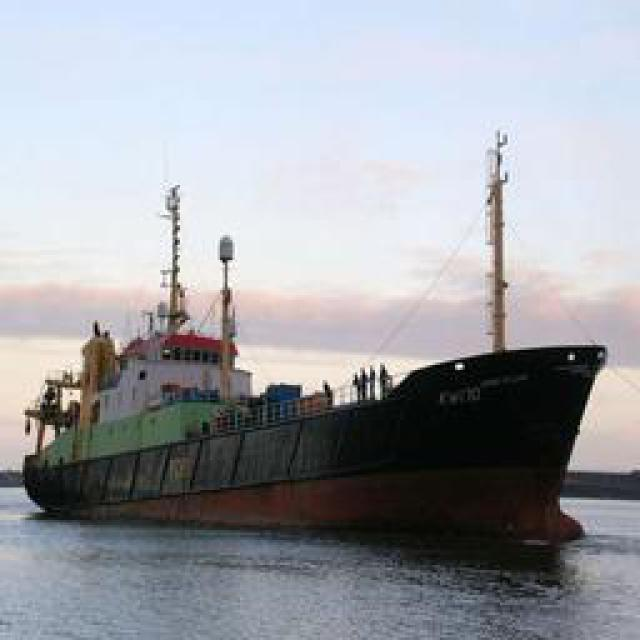Ship: (21, 286, 609, 536)
